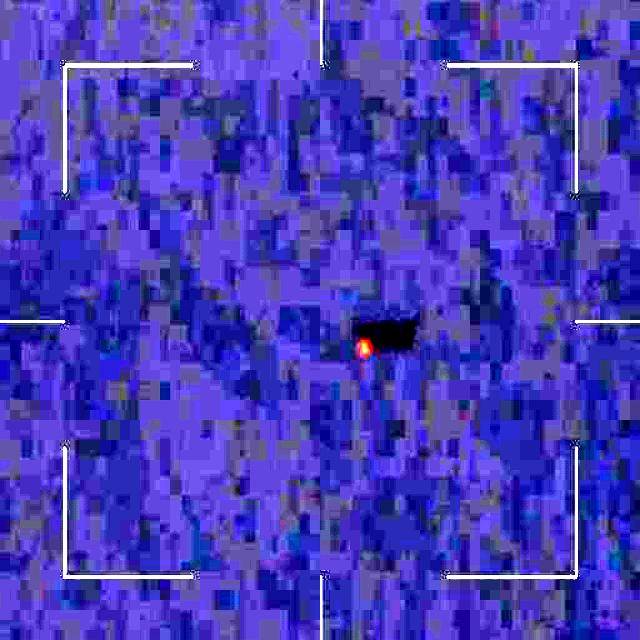bird: (354, 332, 384, 374)
